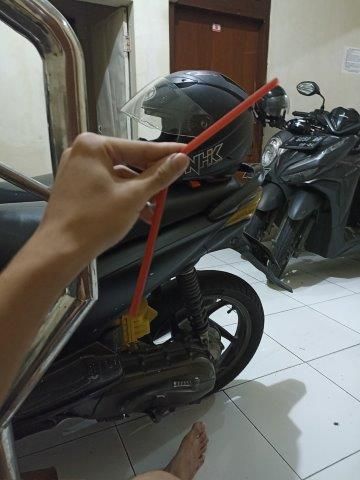sedotan: (130, 80, 277, 310)
